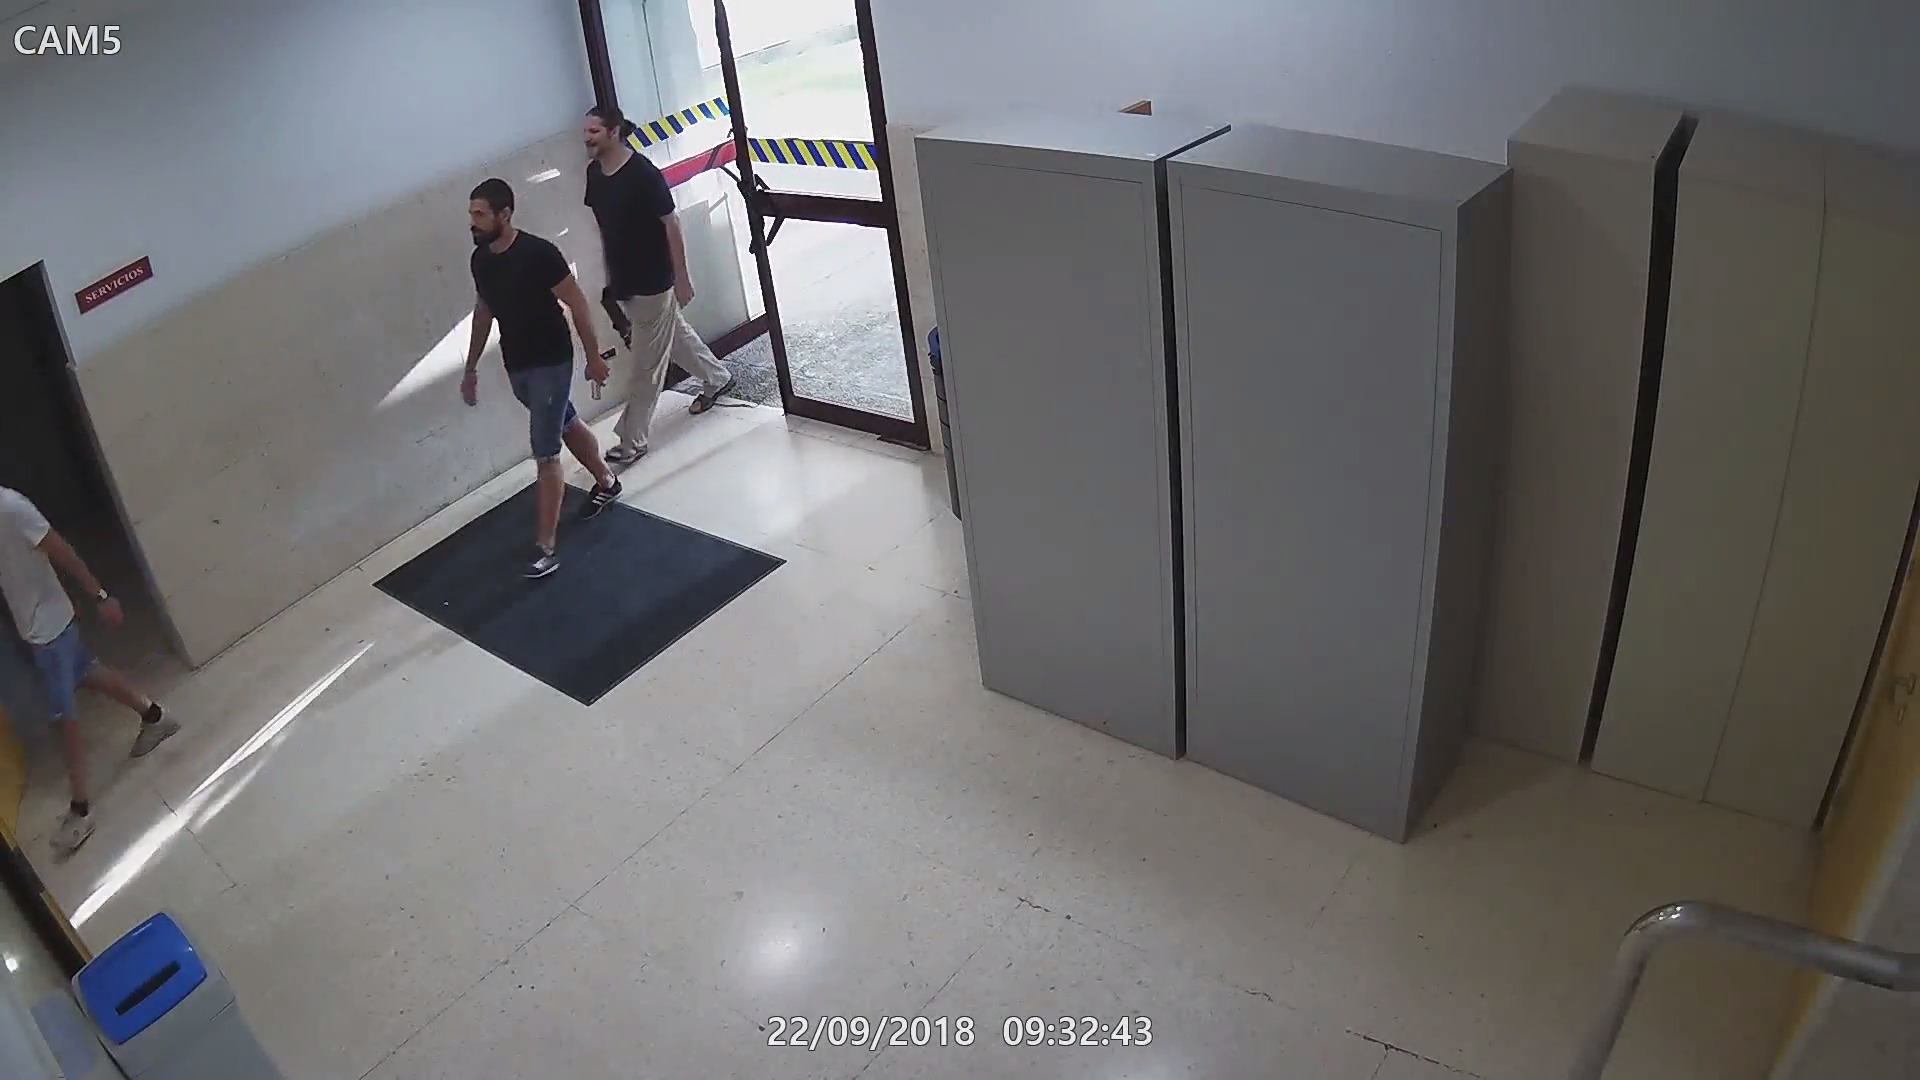Handgun: (584, 345, 616, 401)
Short_rifle: (597, 294, 636, 349)
